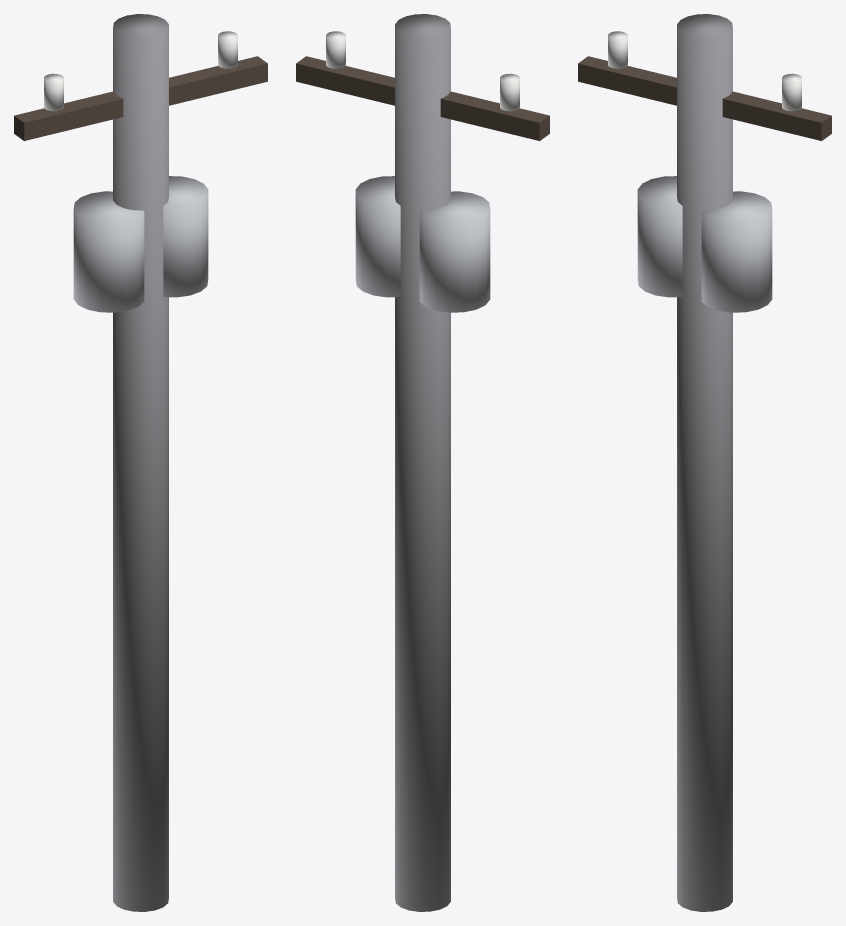
File: prop_henatsuki.glb
The picture shows the model from 3 angles, left to right: view 1: azimuth 30°, elevation 25°; view 2: azimuth 150°, elevation 25°; view 3: azimuth 330°, elevation 25°; orthographic projection.
Parts seen in each view (by area): view 1: henatsuki; view 2: henatsuki; view 3: henatsuki.
Boxes of the visible parts, x1,y1,x2,y2 form: henatsuki: [14, 14, 267, 911]; henatsuki: [296, 14, 549, 911]; henatsuki: [578, 14, 831, 911].
Bounding box in the file's own units: 1.4 × 4.8 × 0.36.
